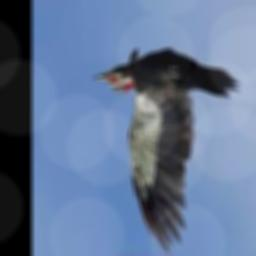Woodpecker: (92, 50, 241, 254)
